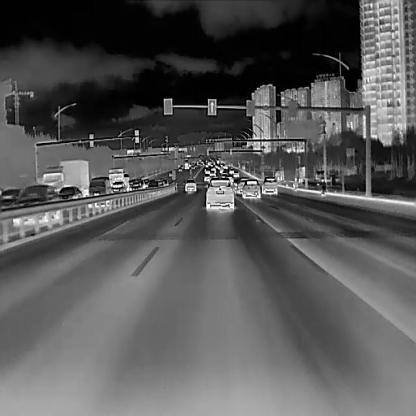bus: (183, 160, 188, 168)
car: (12, 184, 56, 226), (43, 160, 89, 194), (205, 177, 232, 211), (89, 176, 109, 206), (56, 186, 84, 205), (261, 175, 277, 196), (242, 180, 260, 198), (0, 187, 17, 204), (183, 177, 196, 192), (147, 180, 159, 194), (111, 182, 126, 193), (237, 176, 245, 194), (130, 180, 145, 188), (320, 178, 326, 197), (292, 176, 297, 191), (232, 170, 239, 177), (204, 167, 209, 173), (204, 175, 209, 181), (209, 170, 214, 175), (229, 167, 233, 173), (219, 167, 223, 172), (222, 170, 226, 174), (223, 164, 227, 168), (168, 170, 172, 174), (204, 162, 207, 166), (178, 168, 182, 170)
truck: (107, 169, 127, 189)
